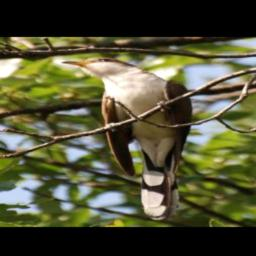Cuckoo: (59, 56, 196, 221)
